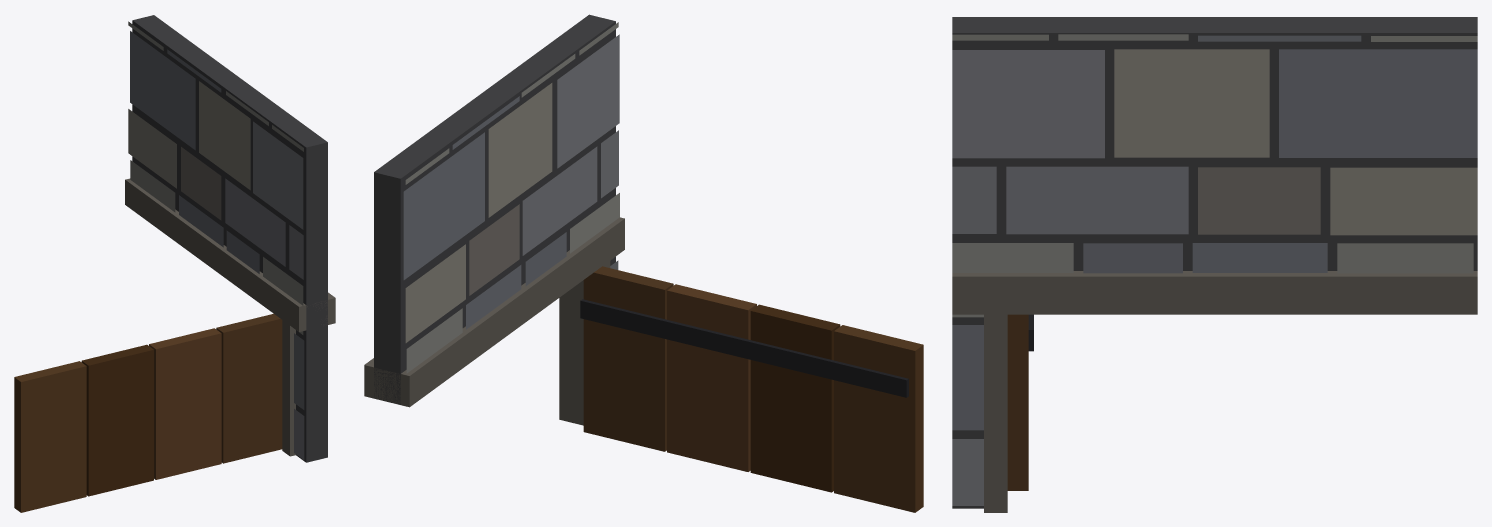
File: wall-stone-door-open-high-r.glb
3 renders of one model, left to right at view 1: azimuth 30°, elevation 25°; view 2: azimuth 150°, elevation 25°; view 3: azimuth 270°, elevation 25°, orthographic. The views are drawn at different scales.
Parts seen in each view (by area): view 1: wall-stone-door-open-high-r; view 2: wall-stone-door-open-high-r; view 3: wall-stone-door-open-high-r.
Boxes of the visible parts, <box> form: wall-stone-door-open-high-r: <box>14,15,335,512</box>; wall-stone-door-open-high-r: <box>364,14,923,512</box>; wall-stone-door-open-high-r: <box>952,17,1477,512</box>.
Bounding box in the file's own units: 0.984 × 1 × 1.
